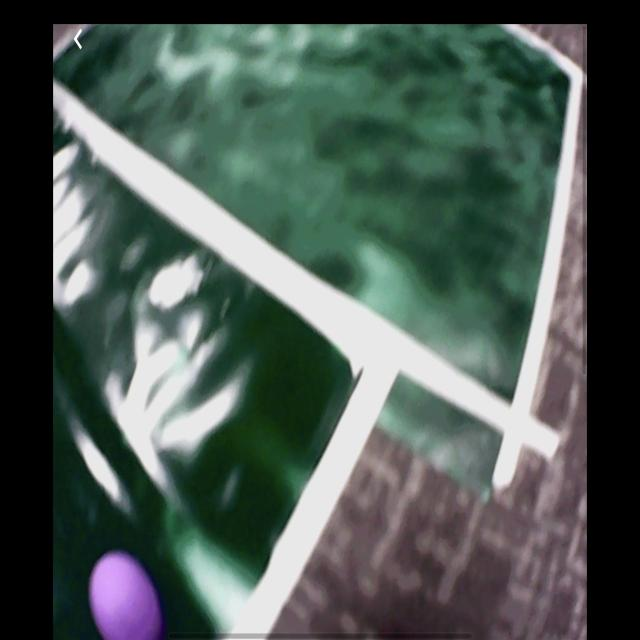ball: (91, 556, 160, 640)
